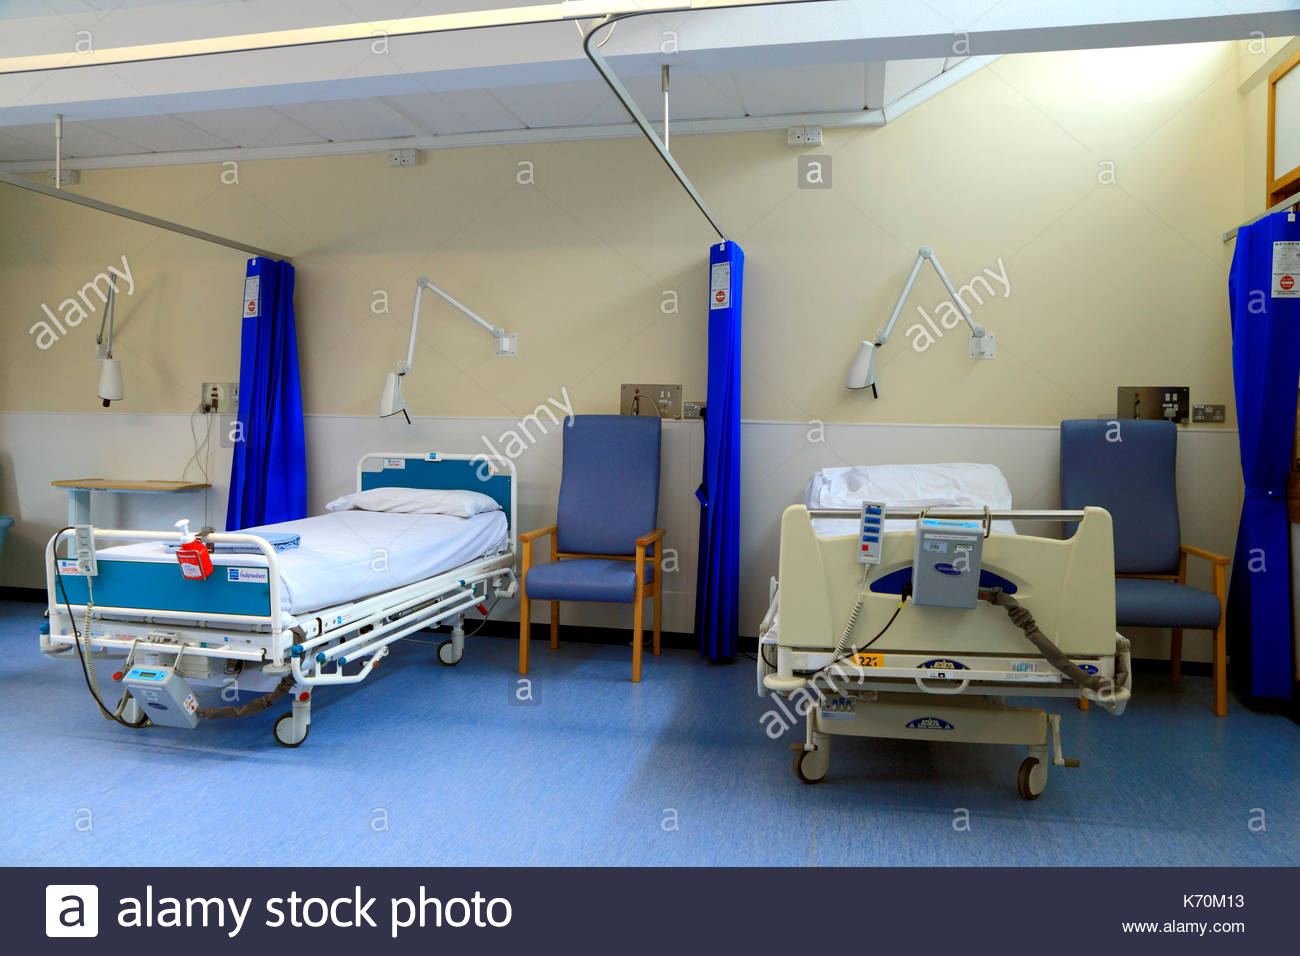hospital bed: (24, 449, 520, 667)
